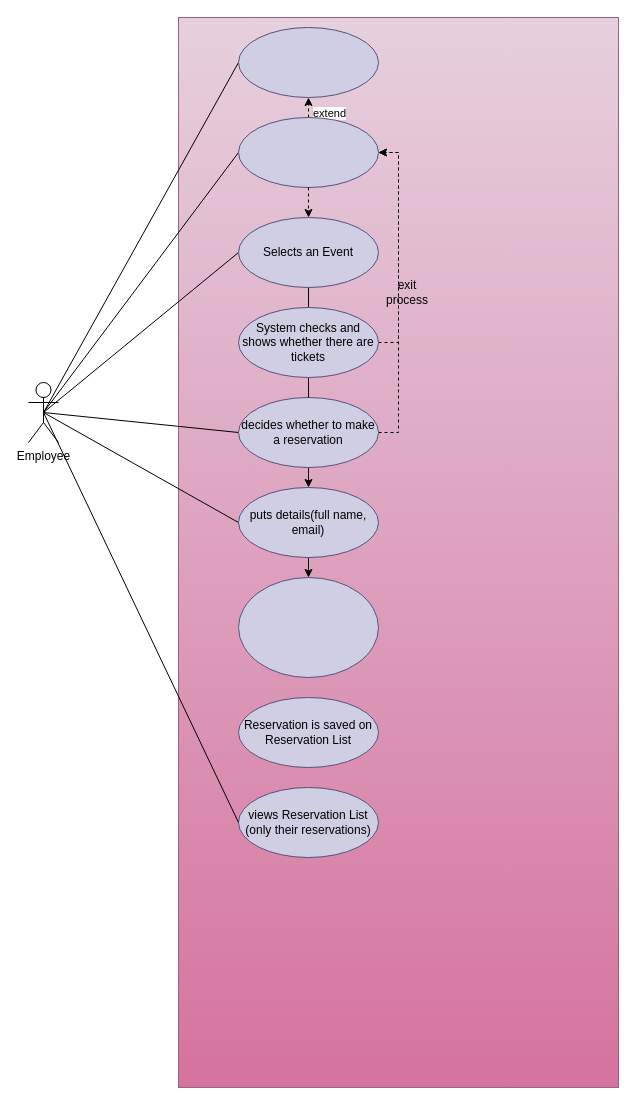
This 636x1105 diagram has some shape labels left out. The centre of each missing label's shape, as x and y in pixels:
"System puts the rest info(Event title) & capacity-- visitorcount++" belongs at point (308, 627).
"views filtered List" belongs at point (308, 152).
"Views List of Events" belongs at point (308, 62).
